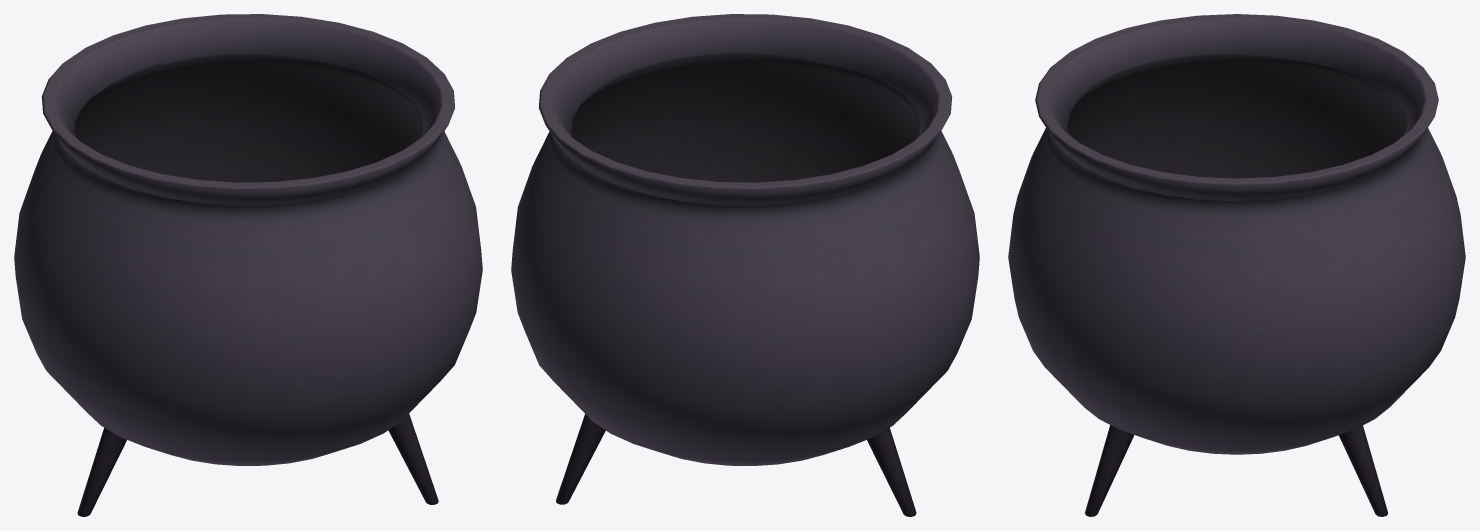
Rendered from cauldron.glb.
3 renders of one model, left to right at view 1: azimuth 30°, elevation 25°; view 2: azimuth 150°, elevation 25°; view 3: azimuth 270°, elevation 25°, orthographic. The views are drawn at different scales.
Visible parts, largest first — view 1: Cauldron.smd; view 2: Cauldron.smd; view 3: Cauldron.smd.
Part boxes in pixels (x1,y1,x2,y2): Cauldron.smd: (14,14,482,516); Cauldron.smd: (511,14,979,516); Cauldron.smd: (1008,14,1465,516).
Bounding box in the file's own units: 0.987 × 0.8671 × 0.987.
Materials: 1 (1 with a texture image).
